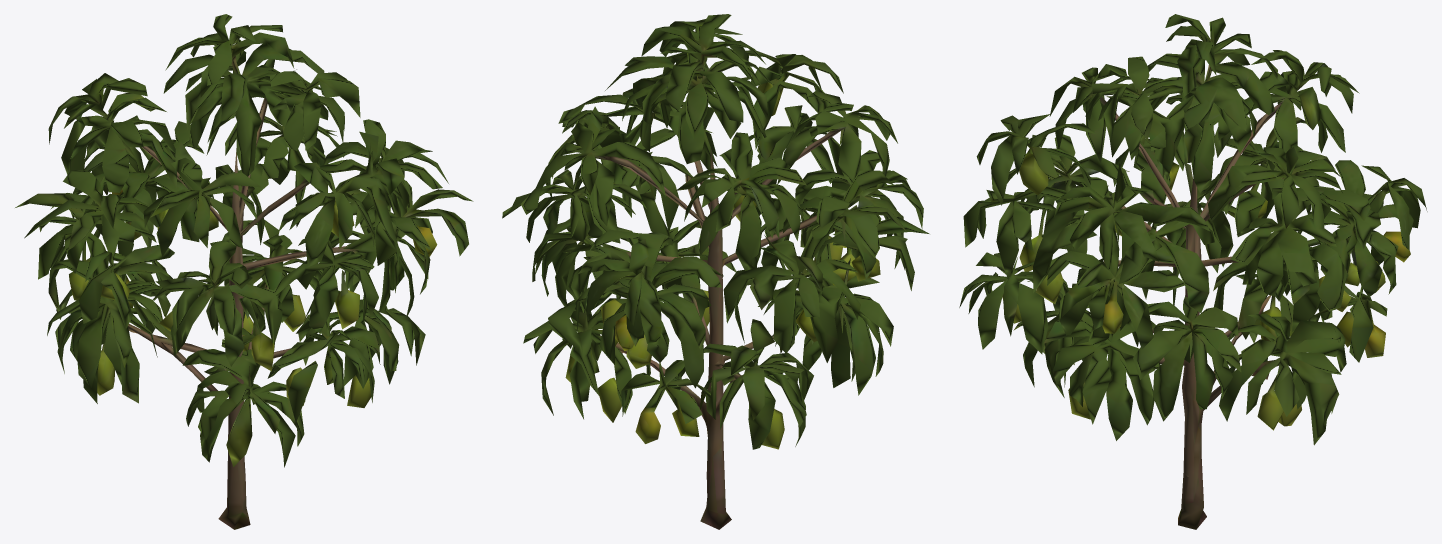
The model's file is mango.glb.
The picture shows the model from 3 angles, left to right: view 1: azimuth 30°, elevation 25°; view 2: azimuth 150°, elevation 25°; view 3: azimuth 270°, elevation 25°; orthographic projection.
Visible parts, largest first — view 1: tripo_node_6eff5b60-db87-407a-99ca-173f184d88f0; view 2: tripo_node_6eff5b60-db87-407a-99ca-173f184d88f0; view 3: tripo_node_6eff5b60-db87-407a-99ca-173f184d88f0.
Boxes of the visible parts, x1,y1,x2,y2 form: tripo_node_6eff5b60-db87-407a-99ca-173f184d88f0: (15, 14, 473, 529); tripo_node_6eff5b60-db87-407a-99ca-173f184d88f0: (502, 14, 929, 529); tripo_node_6eff5b60-db87-407a-99ca-173f184d88f0: (959, 14, 1427, 529).
Size of the model in its own units: 0.7626 by 1 by 0.8372.
1 material, 1 textured.
